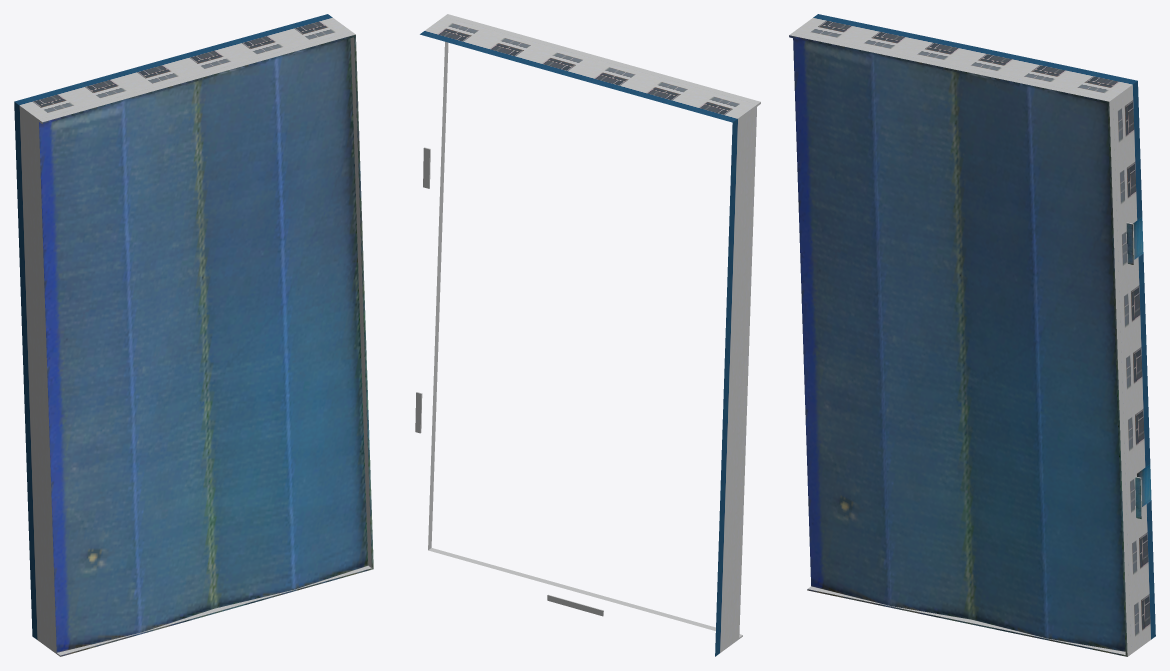
3 renders of one model, left to right at view 1: azimuth 30°, elevation 25°; view 2: azimuth 150°, elevation 25°; view 3: azimuth 330°, elevation 25°, orthographic. The views are drawn at different scales.
Visible parts, largest first — view 1: Group_MatrixTransform_i94b051_Geometry_7, Group_MatrixTransform_i94b051_Geometry_5, Group_MatrixTransform_i94b051_Geometry_1, Group_MatrixTransform_i94b051_Geometry_6, Group_MatrixTransform_i94b051_Geometry_8; view 2: Group_MatrixTransform_i94b051_Geometry_5, Group_MatrixTransform_i94b051_Geometry_1, Group_MatrixTransform_i94b051_Geometry_6; view 3: Group_MatrixTransform_i94b051_Geometry_7, Group_MatrixTransform_i94b051_Geometry_1, Group_MatrixTransform_i94b051_Geometry_6, Group_MatrixTransform_i94b051_Geometry_8, Group_MatrixTransform_i94b051_Geometry_0.
Part boxes in pixels (box(x1,y1,x2,y2)): Group_MatrixTransform_i94b051_Geometry_7: box(39, 38, 368, 652); Group_MatrixTransform_i94b051_Geometry_5: box(14, 102, 56, 653); Group_MatrixTransform_i94b051_Geometry_1: box(14, 14, 351, 119); Group_MatrixTransform_i94b051_Geometry_6: box(39, 32, 371, 656); Group_MatrixTransform_i94b051_Geometry_8: box(42, 34, 373, 656); Group_MatrixTransform_i94b051_Geometry_5: box(715, 105, 757, 656); Group_MatrixTransform_i94b051_Geometry_1: box(420, 17, 756, 122); Group_MatrixTransform_i94b051_Geometry_6: box(415, 14, 760, 638); Group_MatrixTransform_i94b051_Geometry_7: box(793, 38, 1125, 651); Group_MatrixTransform_i94b051_Geometry_1: box(793, 14, 1155, 653); Group_MatrixTransform_i94b051_Geometry_6: box(789, 32, 1142, 656); Group_MatrixTransform_i94b051_Geometry_8: box(789, 35, 1127, 656); Group_MatrixTransform_i94b051_Geometry_0: box(1117, 204, 1151, 530).
Bounding box in the file's own units: 52.04 × 82.55 × 7.7.
9 materials, 9 textured.
